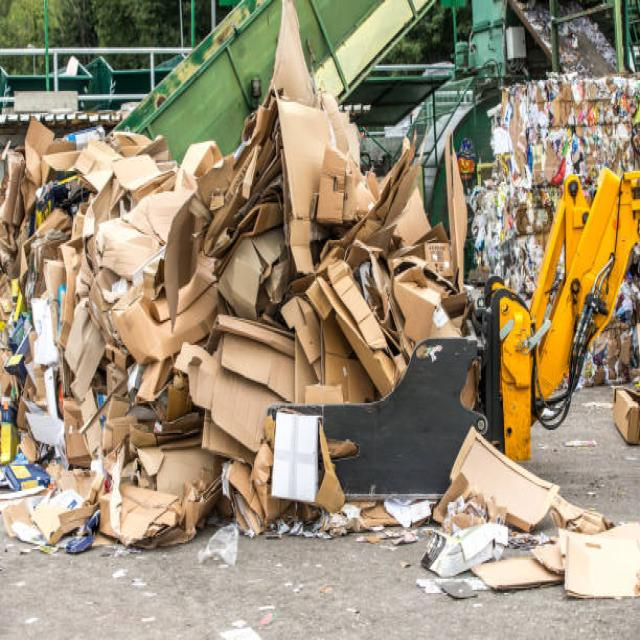cardboard: (20, 136, 489, 560), (512, 89, 638, 171)
